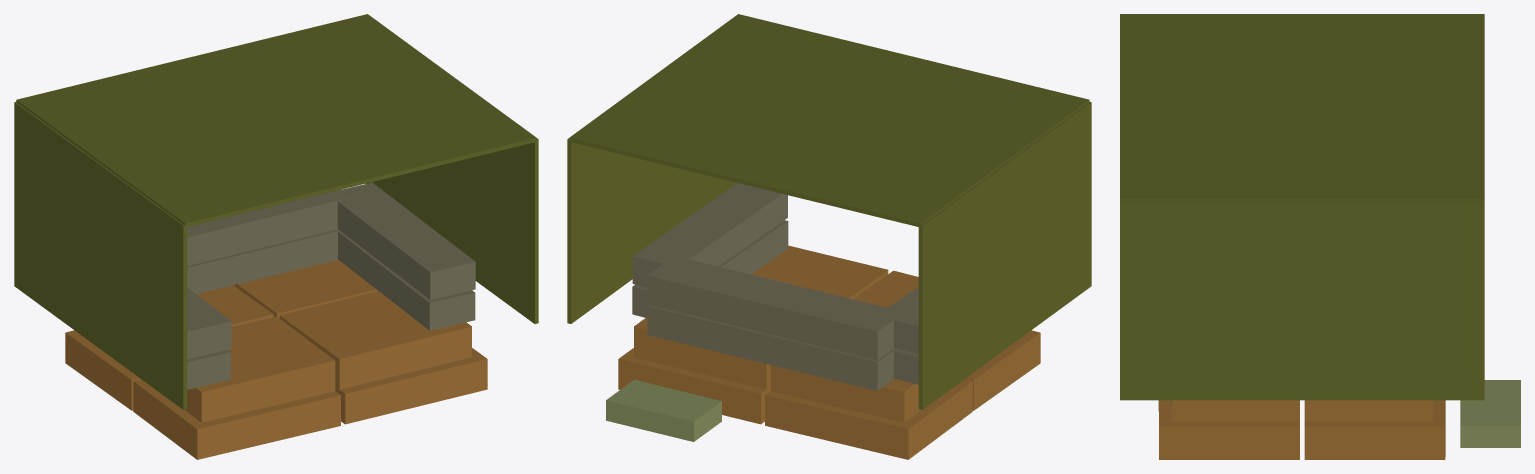
File: SM_Nido_v3_LOD1.fbx
3 views of the same model, side by side, from view 1: azimuth 30°, elevation 25°; view 2: azimuth 150°, elevation 25°; view 3: azimuth 270°, elevation 25° (orthographic). The views are drawn at different scales.
Visible parts, largest first — view 1: SM_banqueta_tiro_v8_LOD1; view 2: SM_banqueta_tiro_v8_LOD1; view 3: SM_banqueta_tiro_v8_LOD1.
Boxes of the visible parts, <box> form: SM_banqueta_tiro_v8_LOD1: <box>14,14,538,459</box>; SM_banqueta_tiro_v8_LOD1: <box>567,14,1091,459</box>; SM_banqueta_tiro_v8_LOD1: <box>1120,14,1520,459</box>.
Size of the model in its own units: 3.64 by 2.52 by 3.3.
